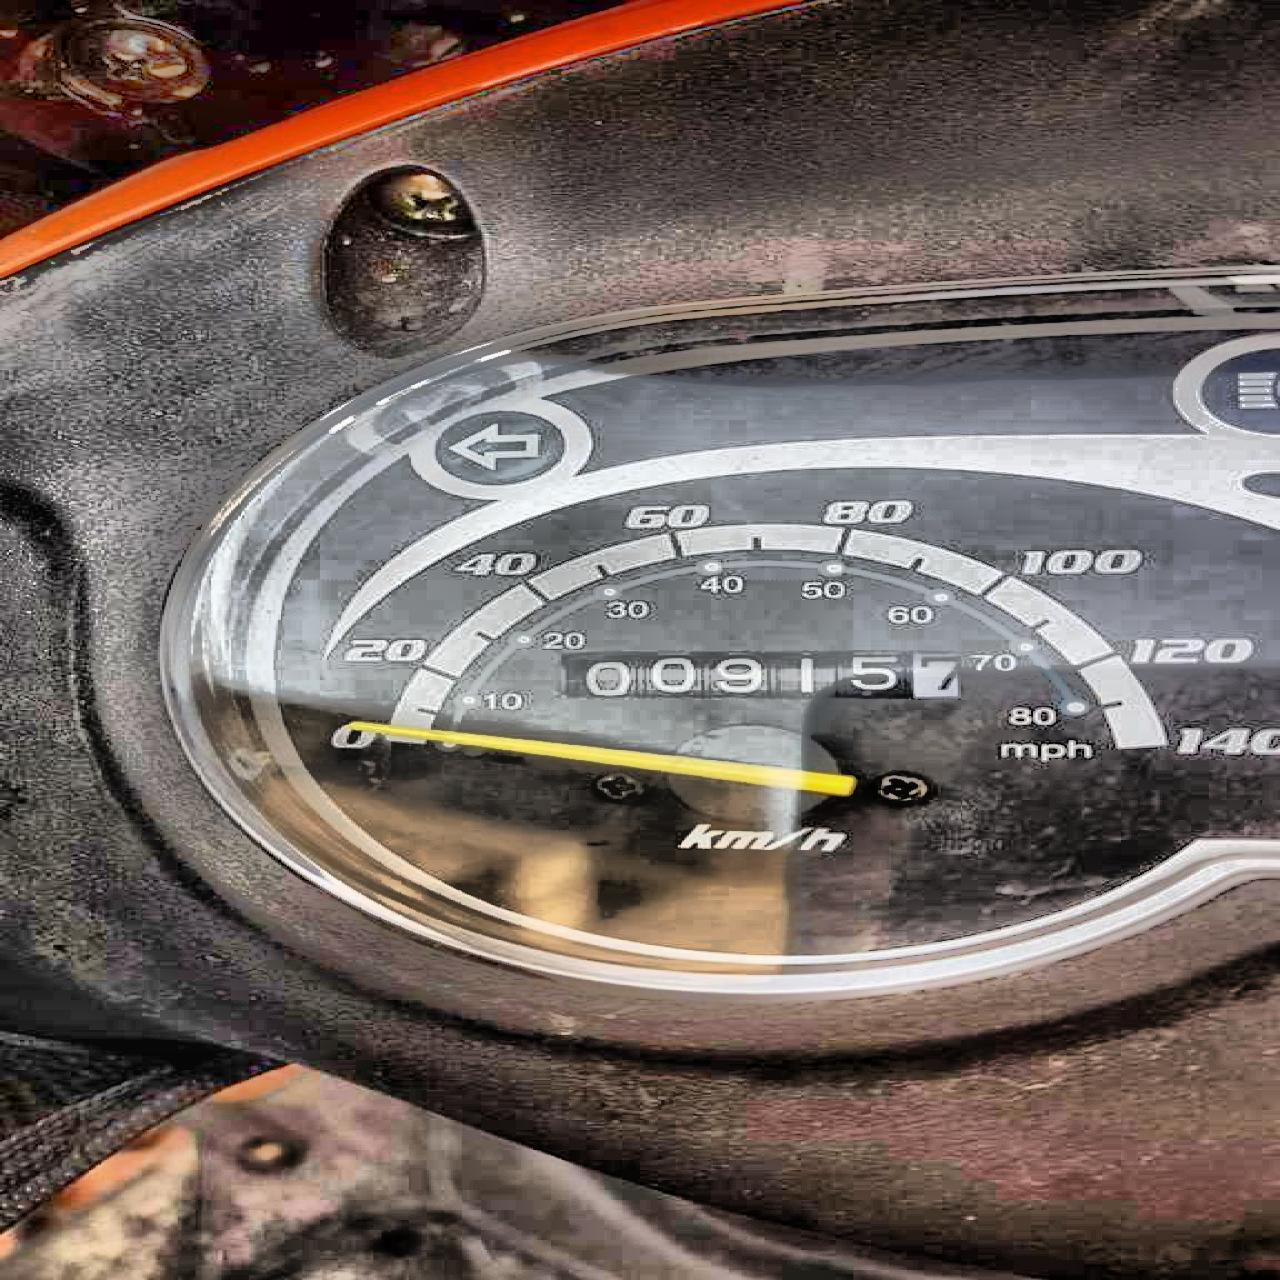0: (647, 656, 693, 693), (583, 660, 628, 695)
1: (796, 656, 816, 693)
5: (846, 655, 896, 692)
7: (918, 655, 960, 689)
9: (712, 656, 760, 692)
odometer: (565, 647, 965, 701)
